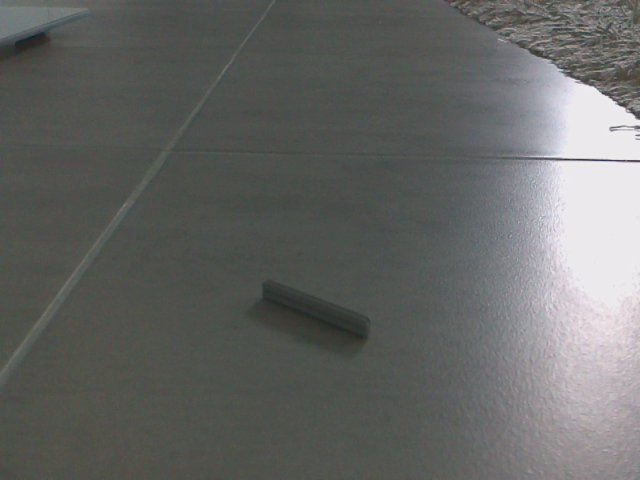Grau_kurz: (255, 268, 385, 345)
